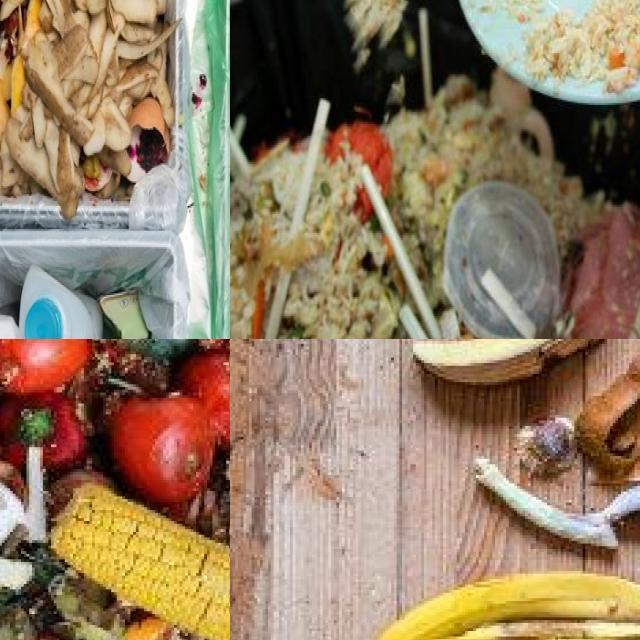Disposable: (100, 291, 149, 339)
Garbage: (230, 10, 640, 339), (370, 339, 640, 640), (0, 339, 230, 640), (527, 0, 640, 92)
Plastic: (444, 182, 559, 339)
Plastic_Bag: (562, 203, 640, 339)
Plastic_Container: (19, 266, 101, 339)
Plastic_Straw: (362, 163, 441, 339), (290, 98, 330, 238), (288, 98, 328, 238), (480, 268, 537, 339), (264, 268, 291, 339), (417, 8, 433, 108), (399, 304, 427, 339), (440, 308, 462, 339)
